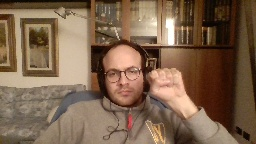Pugno: (143, 66, 186, 103)
